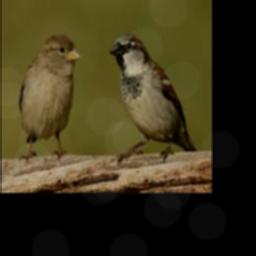Sparrow: (110, 34, 199, 162), (19, 35, 83, 163)
